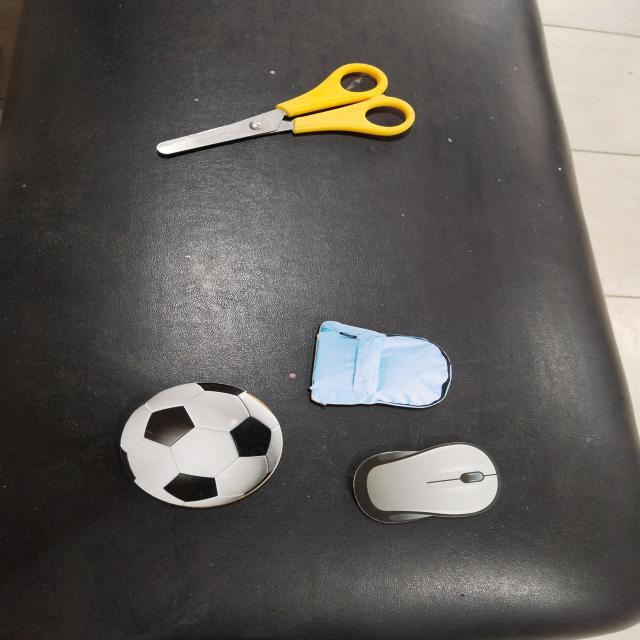Other Objects: (156, 62, 415, 157), (118, 381, 284, 509), (347, 439, 505, 527), (309, 319, 452, 409)
